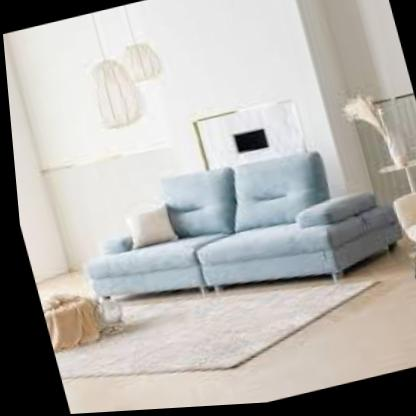Sofa: (41, 112, 416, 355)
